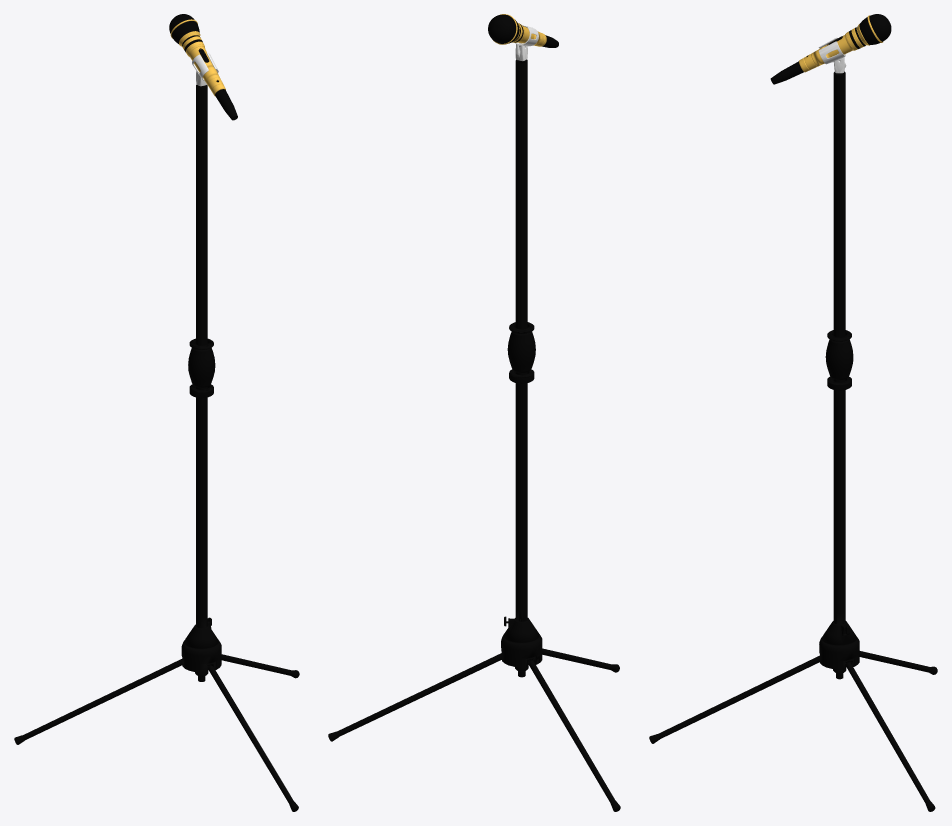
The model's file is Microphone.glb.
The picture shows the model from 3 angles, left to right: view 1: azimuth 30°, elevation 25°; view 2: azimuth 150°, elevation 25°; view 3: azimuth 270°, elevation 25°; orthographic projection. The views are drawn at different scales.
Visible parts, largest first — view 1: Stand, SelMic; view 2: Stand, SelMic; view 3: Stand, SelMic, test1.Shape.001.
Boxes of the visible parts, bbox=[...] form: Stand: bbox=[14, 84, 299, 811]; SelMic: bbox=[169, 14, 237, 120]; Stand: bbox=[328, 59, 620, 811]; SelMic: bbox=[488, 14, 558, 47]; Stand: bbox=[649, 71, 937, 811]; SelMic: bbox=[770, 14, 891, 84]; test1.Shape.001: bbox=[818, 37, 846, 73].
Size of the model in its own units: 0.5695 by 1.38 by 0.4943.
